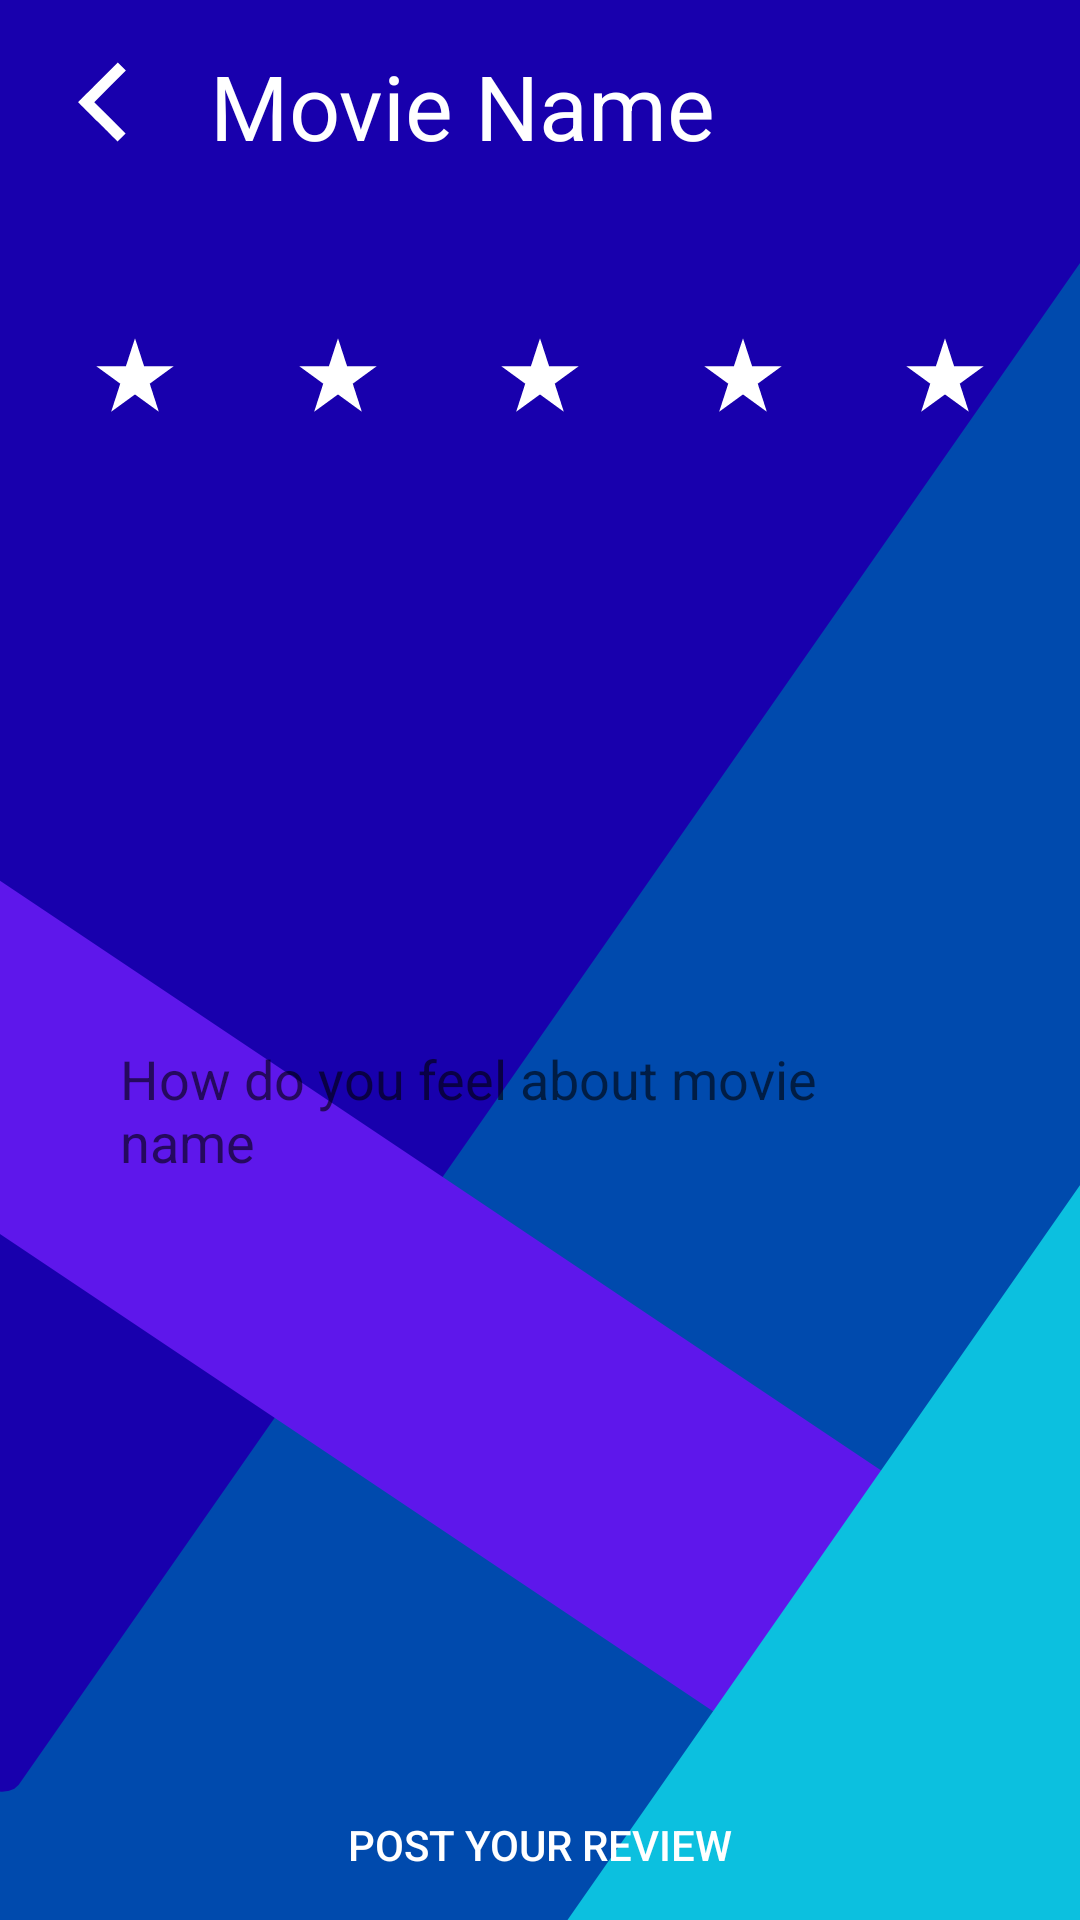

Icons on this 1080×1920 Android screen, each with the point to tap as (x=x, y=y):
back: (x=102, y=102)
rating star: (x=135, y=375), (x=338, y=375), (x=540, y=375), (x=743, y=375), (x=963, y=394)
